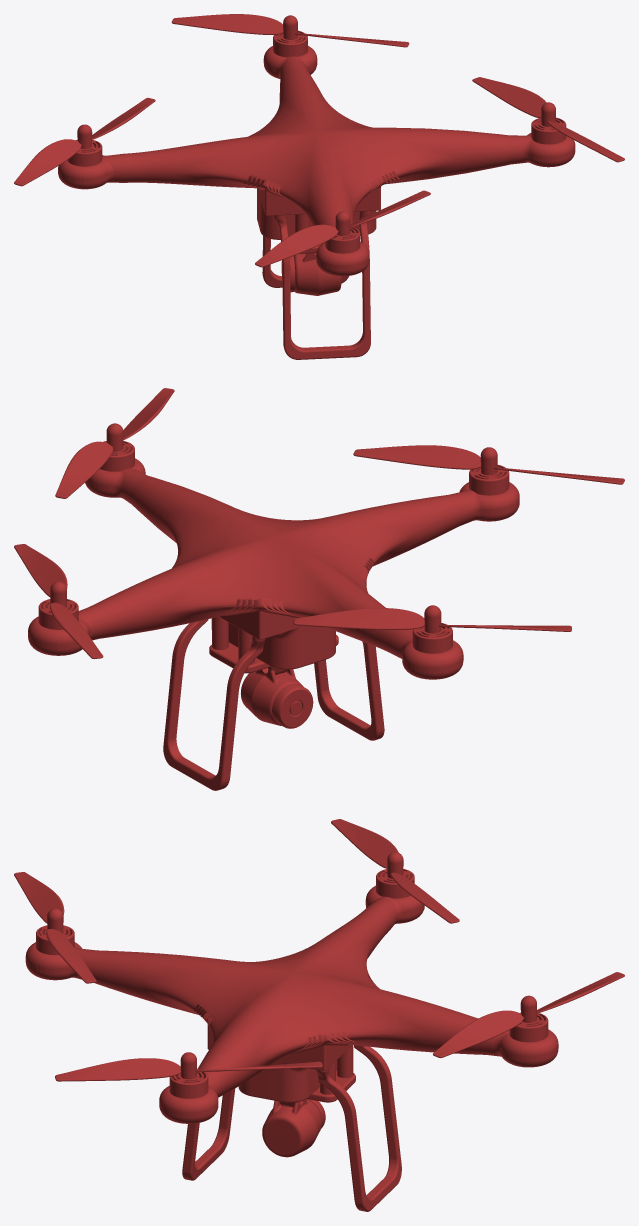
Rendered from drone_3d.glb.
3 views of the same model, one above another, from view 1: azimuth 30°, elevation 25°; view 2: azimuth 150°, elevation 25°; view 3: azimuth 270°, elevation 25° (orthographic). The views are drawn at different scales.
Visible parts, largest first — view 1: Object_2, Object_3; view 2: Object_2, Object_3; view 3: Object_2, Object_3.
Boxes of the visible parts, x1,y1,x2,y2 form: Object_2: (14, 14, 624, 359); Object_3: (58, 46, 575, 276); Object_2: (14, 388, 624, 790); Object_3: (28, 458, 519, 668); Object_2: (14, 819, 624, 1211); Object_3: (25, 885, 558, 1112).
Bounding box in the file's own units: 1.05 × 0.4251 × 1.03.
